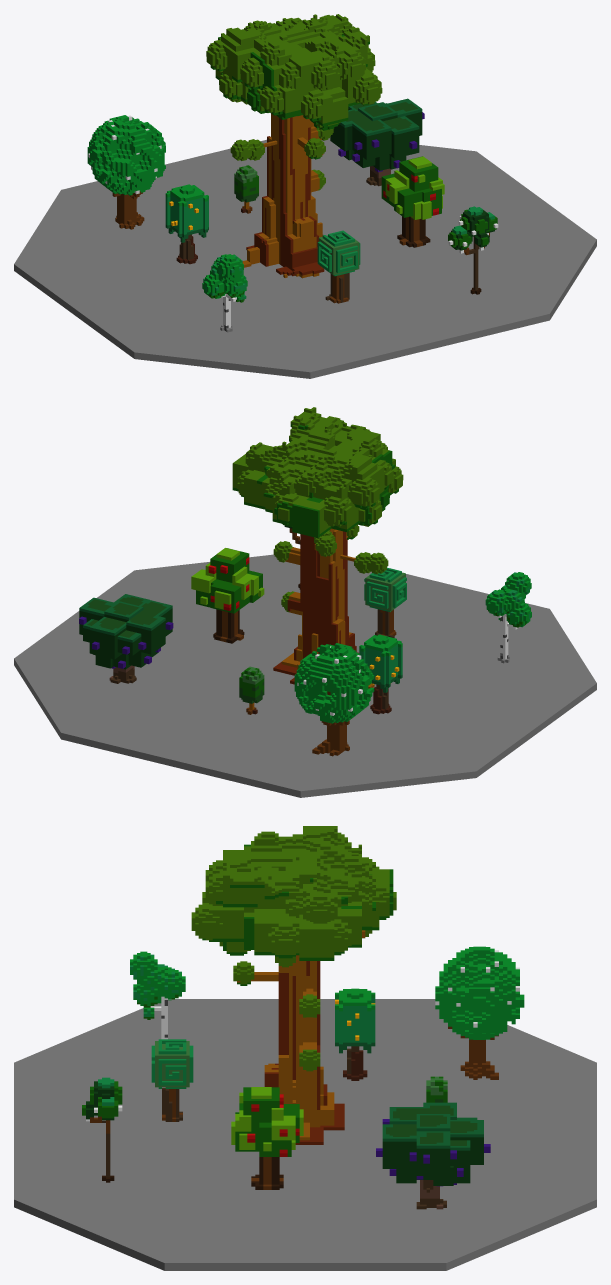
The picture shows the model from 3 angles, top to bottom: view 1: azimuth 30°, elevation 25°; view 2: azimuth 150°, elevation 25°; view 3: azimuth 270°, elevation 25°; orthographic projection. The views are drawn at different scales.
Visible parts, largest first — view 1: Plane001, Tree_4 (2), Tree_3 (2), FruitTree_3 (2), FruitTree_4 (2), FruitTree_2 (2), Tree_1 (2), Tree_2 (2), FruitTree_1 (2), Tree_5 (2); view 2: Plane001, Tree_4 (2), FruitTree_3 (2), Tree_3 (2), FruitTree_4 (2), FruitTree_2 (2), Tree_2 (2), Tree_1 (2), Tree_5 (2); view 3: Plane001, Tree_4 (2), FruitTree_3 (2), Tree_3 (2), FruitTree_4 (2), FruitTree_2 (2), Tree_1 (2), Tree_2 (2), FruitTree_1 (2).
Boxes of the visible parts, x1=… form: Plane001: x1=14, y1=137, x2=596, y2=378; Tree_4 (2): x1=206, y1=14, x2=382, y2=278; Tree_3 (2): x1=87, y1=115, x2=165, y2=229; FruitTree_3 (2): x1=330, y1=98, x2=424, y2=186; FruitTree_4 (2): x1=381, y1=156, x2=444, y2=247; FruitTree_2 (2): x1=165, y1=184, x2=208, y2=264; Tree_1 (2): x1=317, y1=230, x2=360, y2=303; Tree_2 (2): x1=202, y1=254, x2=247, y2=332; FruitTree_1 (2): x1=448, y1=206, x2=498, y2=294; Tree_5 (2): x1=234, y1=165, x2=258, y2=213; Plane001: x1=14, y1=554, x2=596, y2=797; Tree_4 (2): x1=232, y1=407, x2=403, y2=688; FruitTree_3 (2): x1=79, y1=594, x2=173, y2=683; Tree_3 (2): x1=294, y1=643, x2=374, y2=756; FruitTree_4 (2): x1=191, y1=548, x2=264, y2=643; FruitTree_2 (2): x1=359, y1=634, x2=402, y2=714; Tree_2 (2): x1=485, y1=572, x2=531, y2=663; Tree_1 (2): x1=364, y1=567, x2=406, y2=637; Tree_5 (2): x1=239, y1=666, x2=264, y2=714; Plane001: x1=14, y1=999, x2=596, y2=1270; Tree_4 (2): x1=191, y1=826, x2=396, y2=1144; FruitTree_3 (2): x1=376, y1=1102, x2=490, y2=1209; Tree_3 (2): x1=435, y1=946, x2=524, y2=1079; FruitTree_4 (2): x1=231, y1=1087, x2=303, y2=1189; FruitTree_2 (2): x1=335, y1=988, x2=375, y2=1080; Tree_1 (2): x1=151, y1=1039, x2=193, y2=1121; Tree_2 (2): x1=130, y1=951, x2=185, y2=1039; FruitTree_1 (2): x1=82, y1=1077, x2=122, y2=1182.
Bounding box in the file's own units: 368 × 181 × 343.
Materials: 2 (1 with a texture image).
